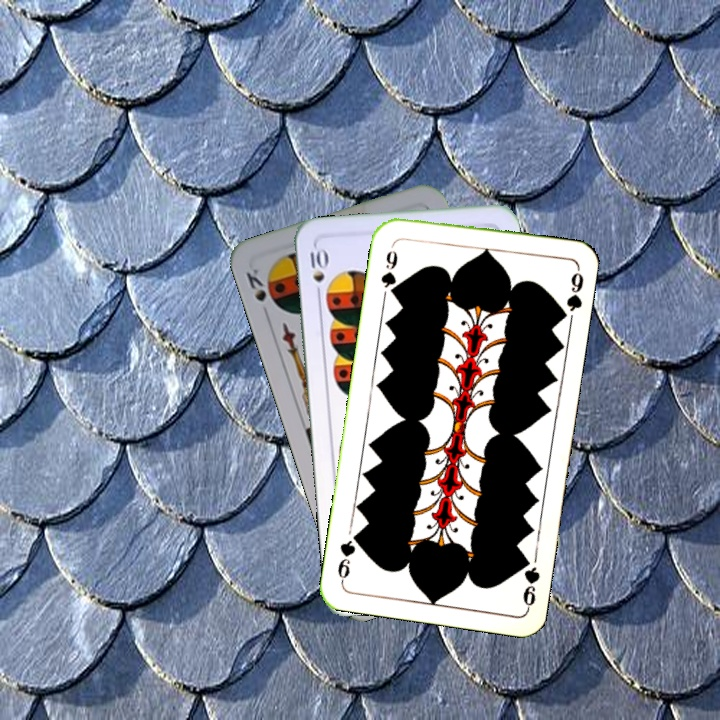G9: (517, 551, 543, 612), (377, 246, 401, 298)
S10: (306, 242, 329, 301)
SK: (242, 264, 269, 305)
